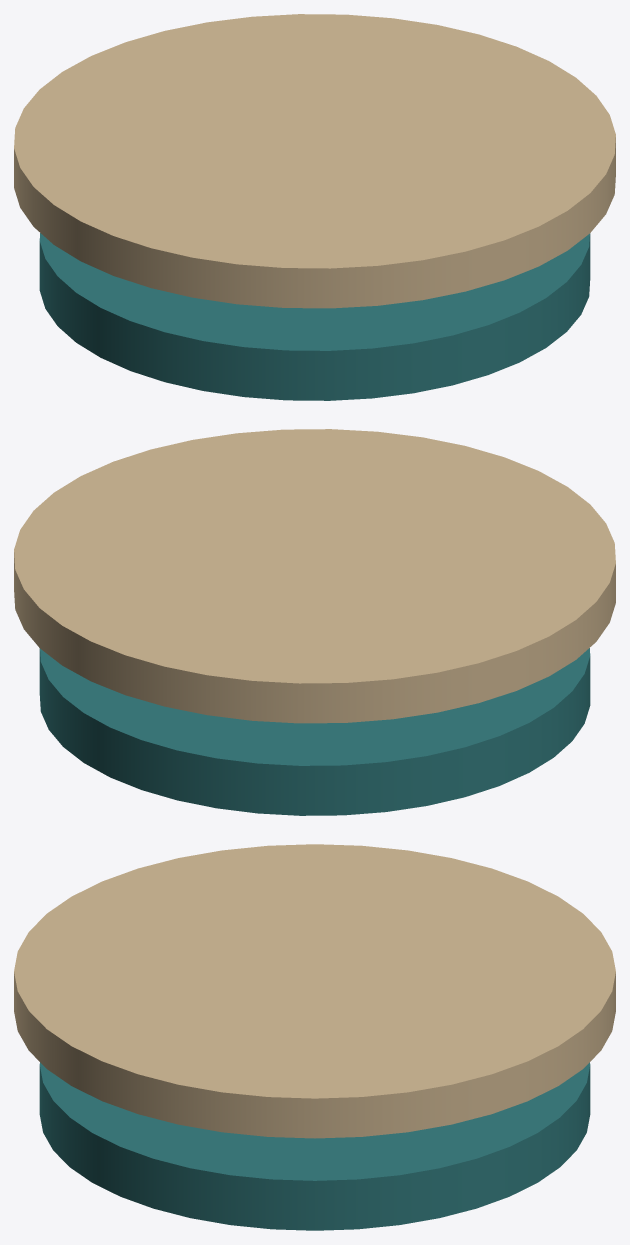
File: tabletop-hobby-store-and-club-spray-booth-turntable-4a023ea6__31600.glb
3 renders of one model, top to bottom at view 1: azimuth 30°, elevation 25°; view 2: azimuth 150°, elevation 25°; view 3: azimuth 270°, elevation 25°, orthographic.
Parts seen in each view (by area): view 1: spray-booth-turntable; view 2: spray-booth-turntable; view 3: spray-booth-turntable.
Boxes of the visible parts, x1=… form: spray-booth-turntable: x1=14, y1=14, x2=615, y2=400; spray-booth-turntable: x1=14, y1=429, x2=615, y2=815; spray-booth-turntable: x1=14, y1=844, x2=615, y2=1230.
Size of the model in its own units: 0.164 by 0.043 by 0.164.
